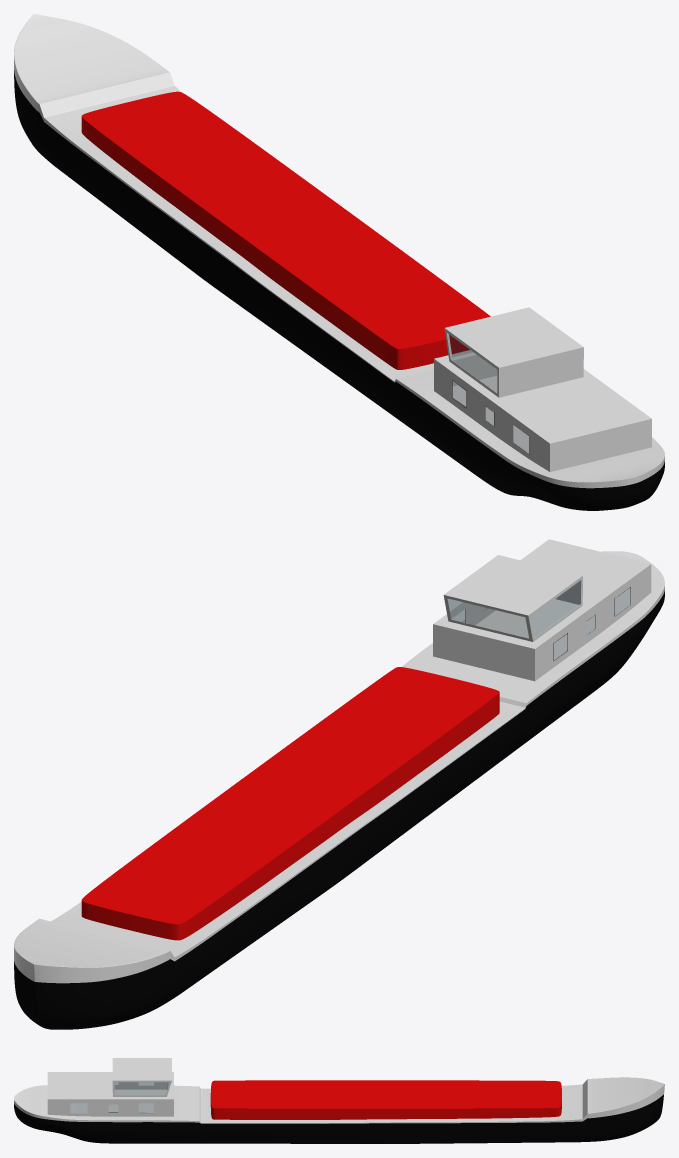
The model's file is inshore cargo ship.glb.
3 views of the same model, one above another, from view 1: azimuth 30°, elevation 25°; view 2: azimuth 150°, elevation 25°; view 3: azimuth 270°, elevation 25° (orthographic). The views are drawn at different scales.
Parts seen in each view (by area): view 1: Cube, Cube.001, Cube.002; view 2: Cube, Cube.001, Cube.002; view 3: Cube, Cube.001, Cube.002.
Boxes of the visible parts, <box> form: Cube: <box>14,14,664,510</box>; Cube.001: <box>81,91,490,369</box>; Cube.002: <box>434,307,651,471</box>; Cube: <box>14,551,664,1029</box>; Cube.001: <box>81,667,499,940</box>; Cube.002: <box>433,539,651,681</box>; Cube: <box>14,1077,664,1143</box>; Cube.001: <box>210,1080,561,1119</box>; Cube.002: <box>47,1058,173,1116</box>.
Size of the model in its own units: 13.93 by 11.38 by 110.
